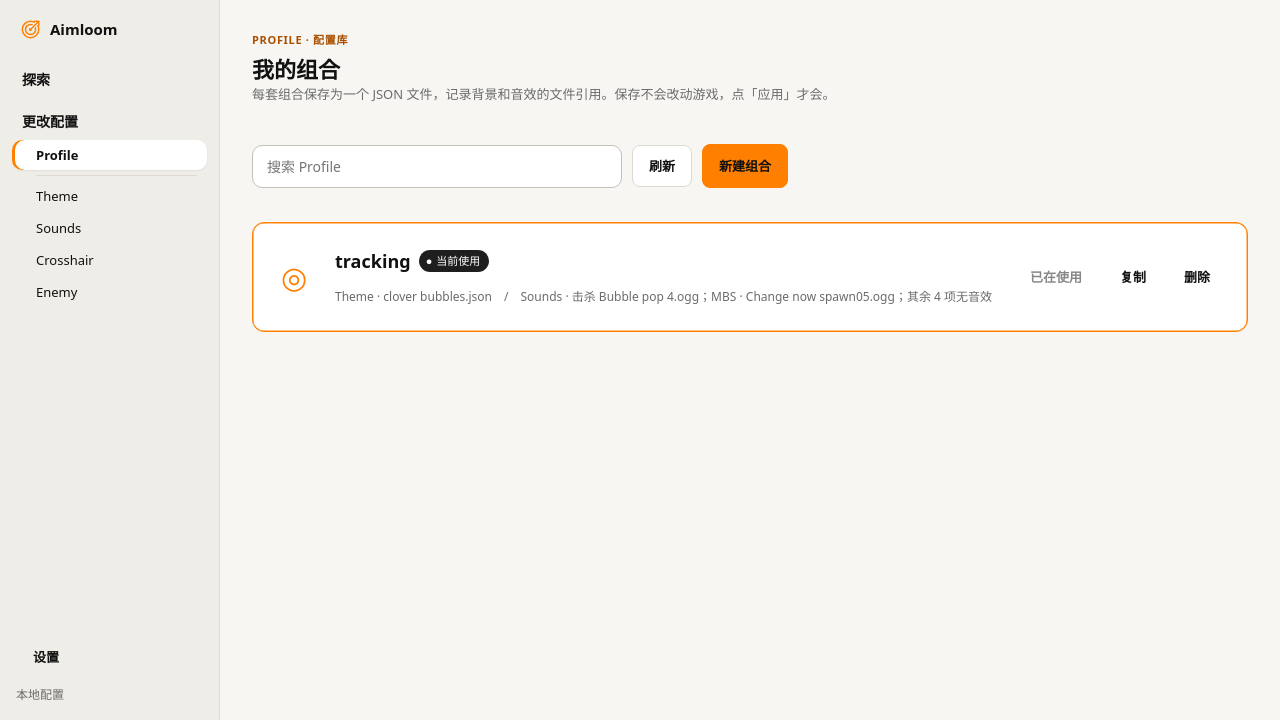
Test: the Profile library › a new Profile starts as the game is and saves as a complete snapshot
The image size is (1280, 720).
Check: the button with aria-label "「tracking」已在使用" is shown, box [1013,256,1099,298]
Click the button "新建组合" at [745, 166], box [702,144,788,188]
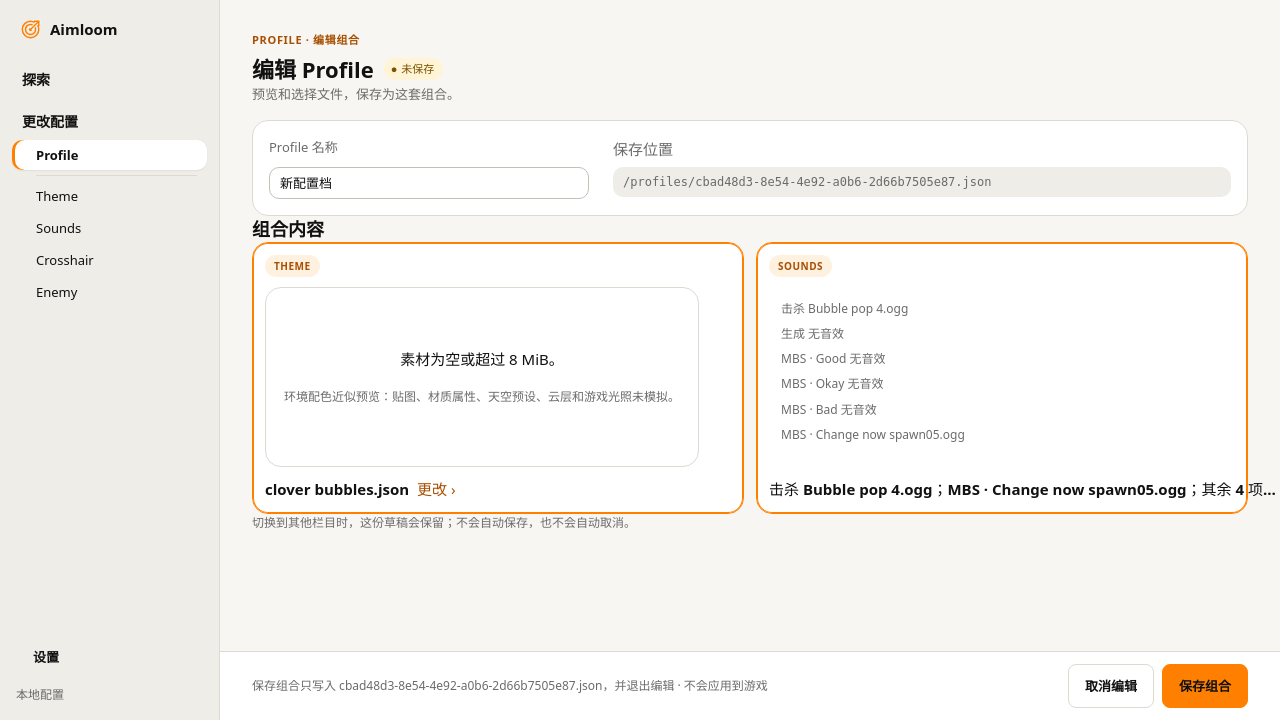
Check: the text "clover bubbles.json" is shown, box [265,477,409,501]
Click the button "保存组合" at [1205, 686], box [1162,664,1248,708]
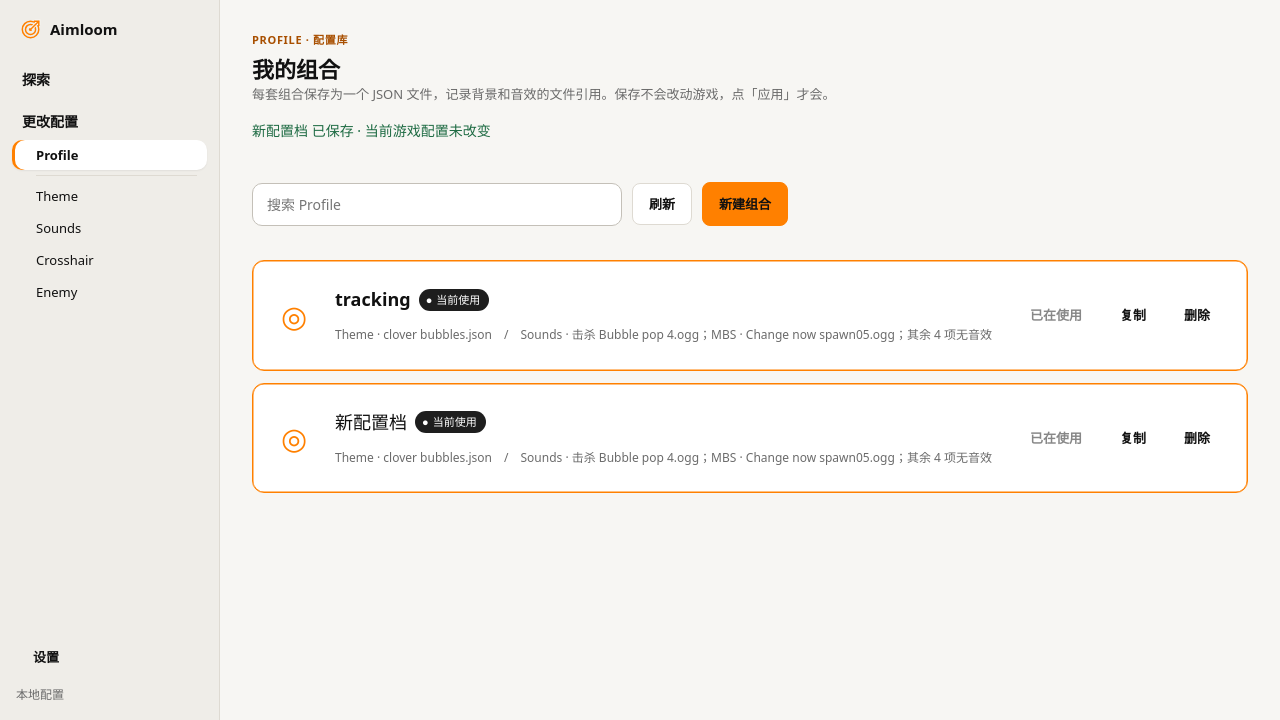
Check: the number of buttons "已在使用" is 2, box [1013,295,1099,337]; [1013,417,1099,459]
